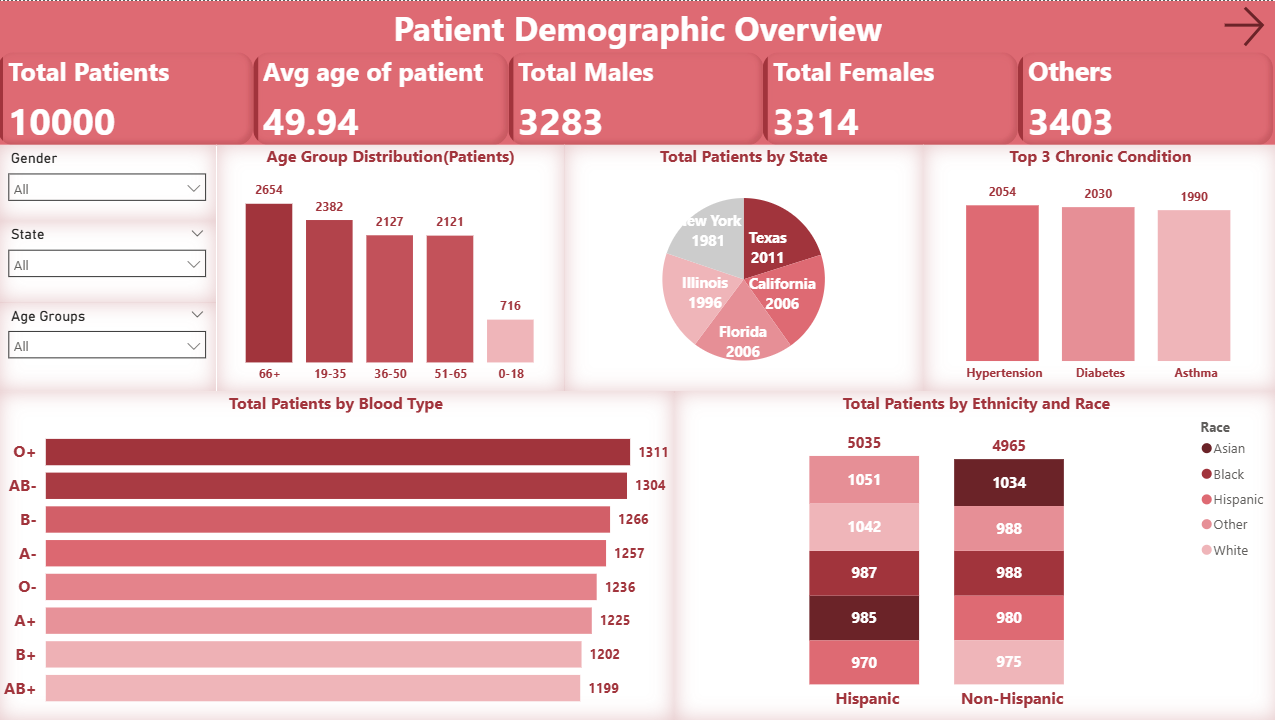

What the dashboard file says about the page in this screenshot:
{"tool":"powerbi","page":{"name":"Patient Demographic overview","canvas":[1280,720],"ordinal":0},"visuals":[{"type":"shape","box":[0,0,1279.7,52.7],"z":0},{"type":"cardVisual","fields":{"Data":["Patient.Total Patients","Patient.Avg age of patient","Patient.Total Males","Patient.Total Females","Patient.Others"]},"box":[0,51.4,1279.7,93.2],"z":1000},{"type":"clusteredColumnChart","title":"Age Group Distribution(Patients)","fields":{"Category":["Patient.Age Groups"],"Y":["Patient.Total Patients"]},"box":[218.3,143.7,347.9,247.9],"z":2000},{"type":"pieChart","fields":{"Category":["Patient.State"],"Y":["Patient.Total Patients"]},"box":[566.2,143.7,359.2,247.9],"z":3000},{"type":"clusteredColumnChart","title":"Top 3 Chronic Condition ","fields":{"Y":["Patient.Total Patients"],"Category":["Patient.Chronic Conditions"]},"box":[925.4,143.7,354.9,246.5],"z":4000},{"type":"columnChart","fields":{"Category":["Patient.Ethnicity"],"Series":["Patient.Race"],"Y":["Patient.Total Patients"]},"box":[676.1,390.1,604.2,329.6],"z":5000},{"type":"clusteredBarChart","fields":{"Category":["Patient.Blood Type"],"Y":["Patient.Total Patients"]},"box":[0,390.1,676.1,329.6],"z":6000},{"type":"slicer","fields":{"Values":["Patient.Gender"]},"box":[0,143.7,218.3,76.1],"z":7000},{"type":"slicer","fields":{"Values":["Patient.State"]},"box":[0,219.7,218.3,81.7],"z":8000},{"type":"slicer","fields":{"Values":["Patient.Age Groups"]},"box":[0,301.4,218.3,88.7],"z":9000},{"type":"actionButton","box":[1220.3,0,59.7,51],"z":10000}]}

Visuals, with their boxes in screenshot pixels (x1, y1, x2, y2), scaled from the page's 1280x720 canvas onto the 1275x720 screenshot:
shape: x1=0, y1=0, x2=1274, y2=53
cardVisual - Patient.Total Patients x Patient.Avg age of patient: x1=0, y1=51, x2=1274, y2=145
"Age Group Distribution(Patients)" clusteredColumnChart: x1=217, y1=144, x2=564, y2=392
pieChart - Patient.State x Patient.Total Patients: x1=564, y1=144, x2=922, y2=392
"Top 3 Chronic Condition " clusteredColumnChart: x1=922, y1=144, x2=1274, y2=390
columnChart - Patient.Ethnicity x Patient.Race: x1=673, y1=390, x2=1274, y2=719
clusteredBarChart - Patient.Blood Type x Patient.Total Patients: x1=0, y1=390, x2=673, y2=719
slicer - Patient.Gender: x1=0, y1=144, x2=217, y2=220
slicer - Patient.State: x1=0, y1=220, x2=217, y2=301
slicer - Patient.Age Groups: x1=0, y1=301, x2=217, y2=390
actionButton: x1=1216, y1=0, x2=1274, y2=51
